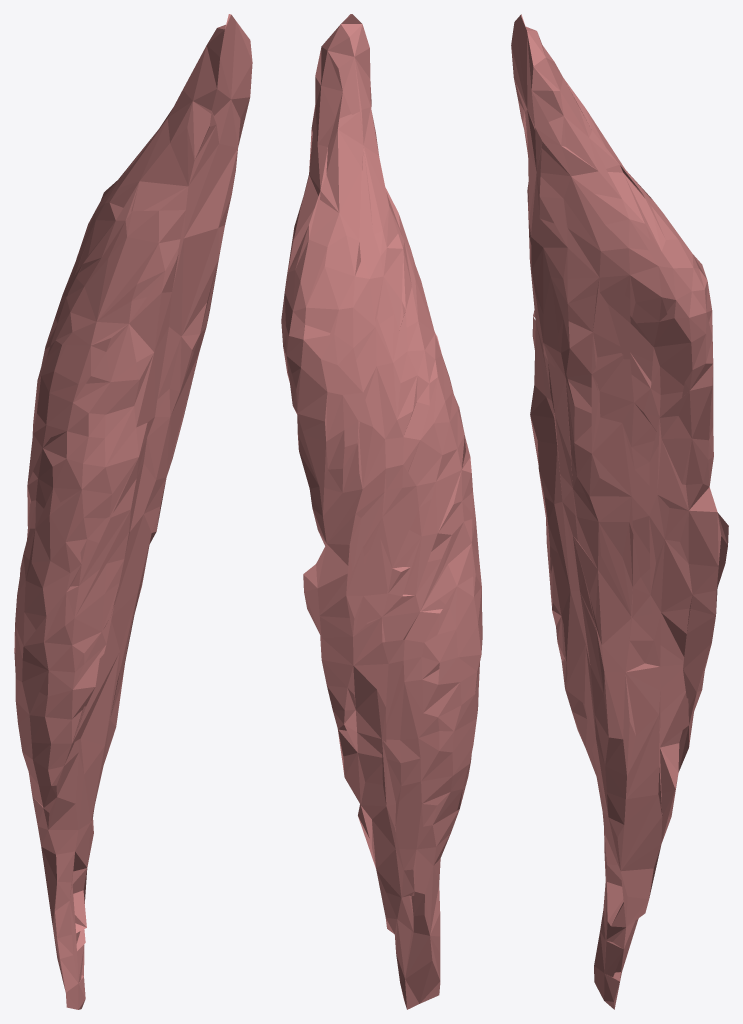
File: Lateral_head_of_triceps_brachii_muscle.r.glb
The picture shows the model from 3 angles, left to right: view 1: azimuth 30°, elevation 25°; view 2: azimuth 150°, elevation 25°; view 3: azimuth 270°, elevation 25°; orthographic projection. The views are drawn at different scales.
Visible parts, largest first — view 1: Lateral_head_of_triceps_brachii_muscle.r; view 2: Lateral_head_of_triceps_brachii_muscle.r; view 3: Lateral_head_of_triceps_brachii_muscle.r.
Boxes of the visible parts, <box> form: Lateral_head_of_triceps_brachii_muscle.r: <box>14,14,252,1009</box>; Lateral_head_of_triceps_brachii_muscle.r: <box>281,14,482,1009</box>; Lateral_head_of_triceps_brachii_muscle.r: <box>511,14,728,1009</box>.
Bounding box in the file's own units: 0.055 × 0.2633 × 0.0496.
